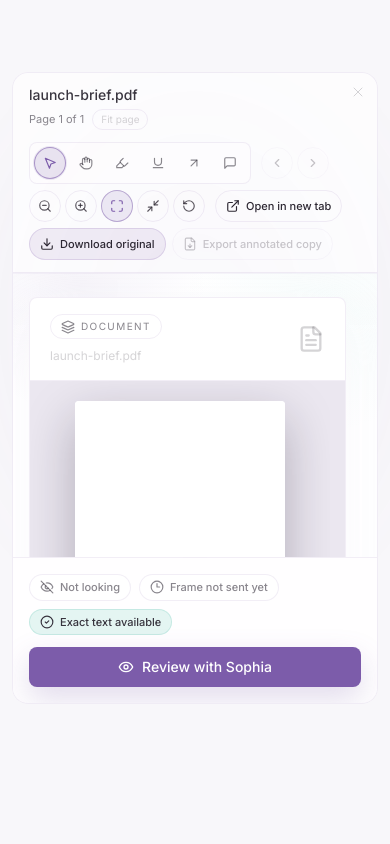
Test: Coreview artifact still-frame review › does not duplicate fallback annotations when a native Coreview annotation already handled the utterance
Expected: the text "Page 1 of 1" is shown, [29,111,84,128]
Expected: the text "Exact text available" is shown, [60,614,161,630]
Click the button "Review with Sophia" at (195, 667), box [29,647,361,687]
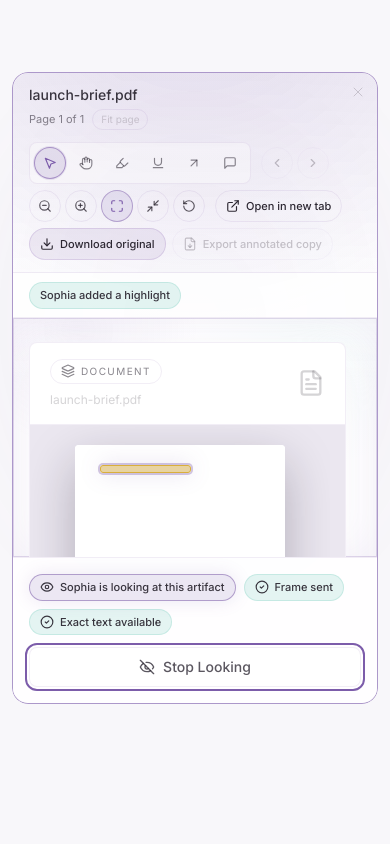
Expected: the number of buttons with test id "artifact-highlight-annotation" is 1, [100,465,191,473]
